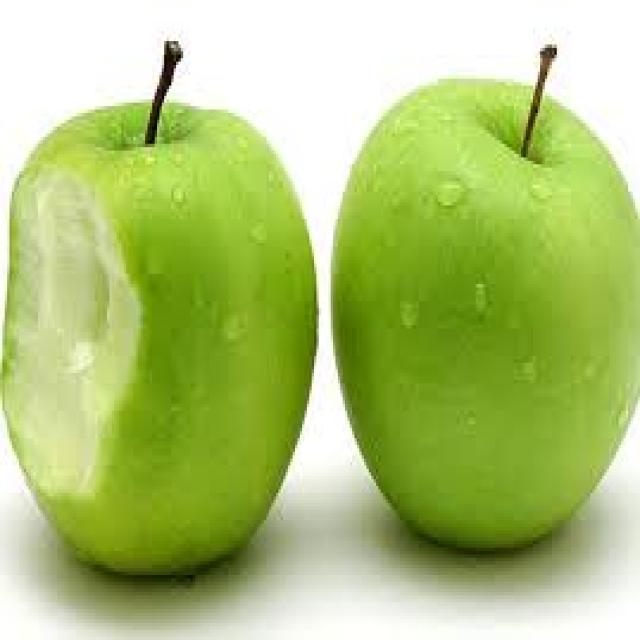apples: (0, 21, 638, 636)
